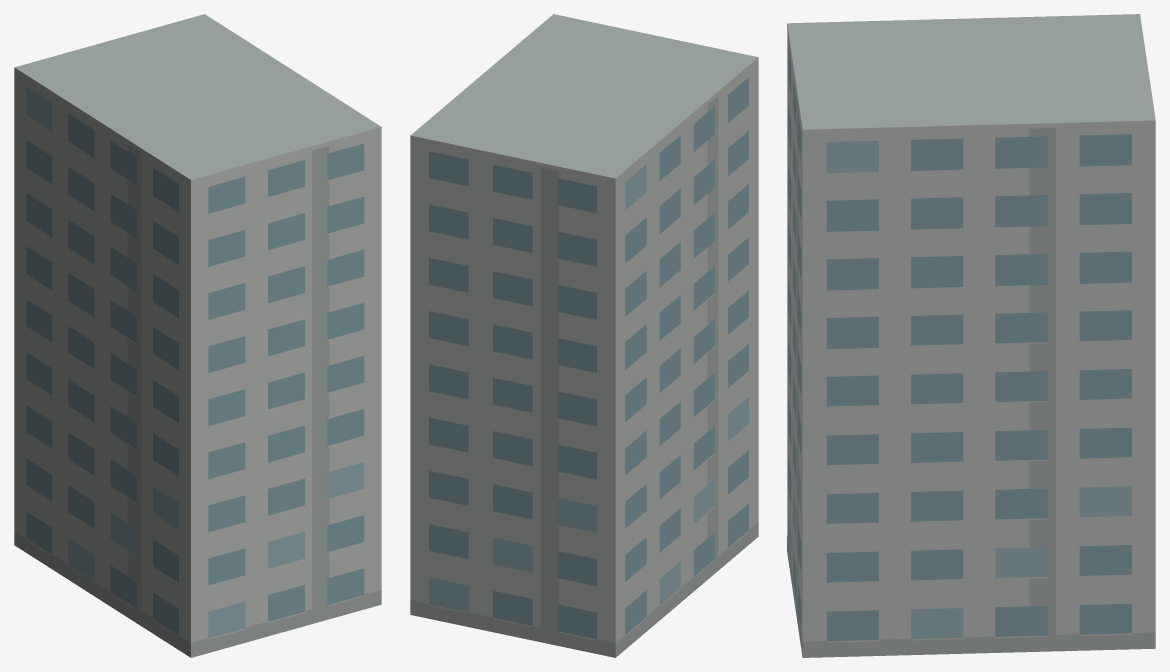
Rendered from residential-4d09d250-c4ad-4fa9-b689-352e77b3f2f9.glb.
The picture shows the model from 3 angles, left to right: view 1: azimuth 30°, elevation 25°; view 2: azimuth 150°, elevation 25°; view 3: azimuth 270°, elevation 25°; orthographic projection. The views are drawn at different scales.
Visible parts, largest first — view 1: residential-4d09d250-c4ad-4fa9-b689-352e77b3f2f9.tmp; view 2: residential-4d09d250-c4ad-4fa9-b689-352e77b3f2f9.tmp; view 3: residential-4d09d250-c4ad-4fa9-b689-352e77b3f2f9.tmp.
Boxes of the visible parts, left/top/right/bottom form: residential-4d09d250-c4ad-4fa9-b689-352e77b3f2f9.tmp: left=14, top=14, right=381, bottom=657; residential-4d09d250-c4ad-4fa9-b689-352e77b3f2f9.tmp: left=410, top=14, right=758, bottom=657; residential-4d09d250-c4ad-4fa9-b689-352e77b3f2f9.tmp: left=787, top=14, right=1155, bottom=657.
Bounding box in the file's own units: 12.22 × 26 × 16.45.
